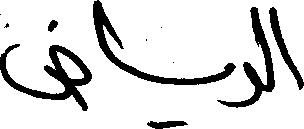X: (0, 9, 79, 109), (211, 2, 260, 112), (108, 14, 143, 83), (279, 21, 304, 94), (162, 57, 182, 128), (93, 0, 103, 56)
